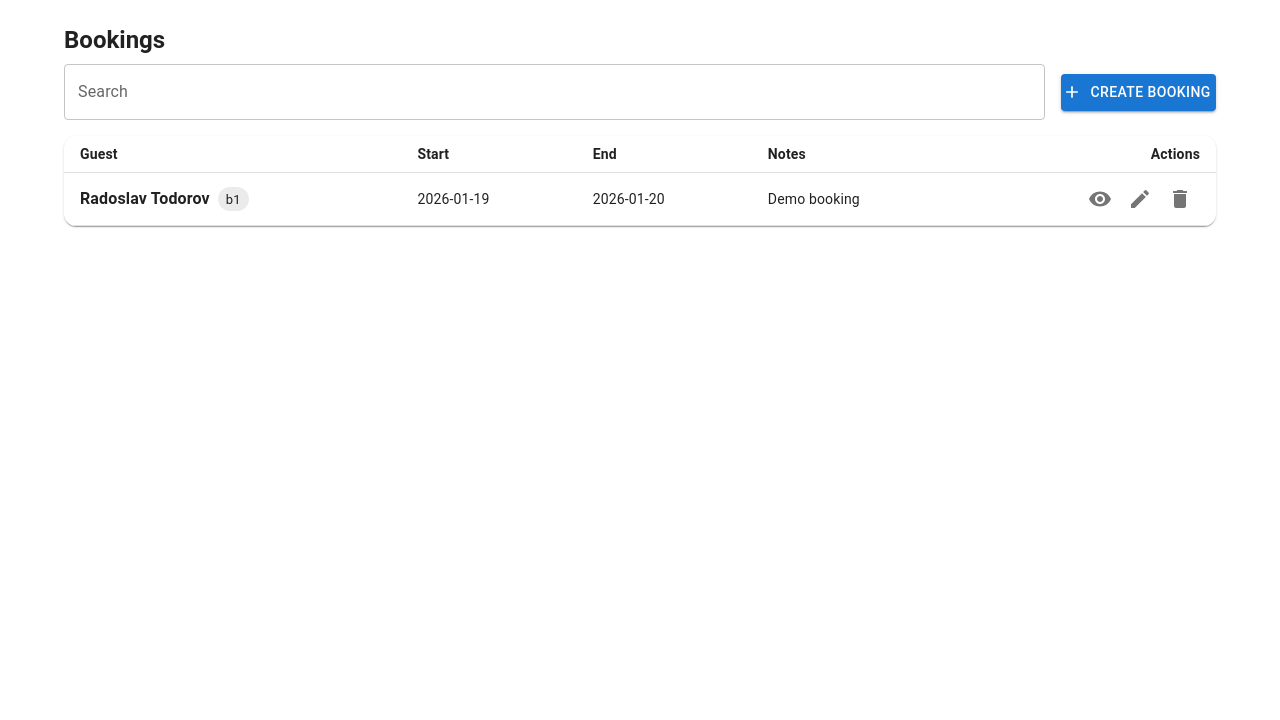
BookingsPage › delete confirm removes booking row from table
Expected: the text "Radoslav Todorov" is shown, [80,187,210,211]
Step 1. Click the button named "delete" → (1180, 199), box [1160,179,1200,219]
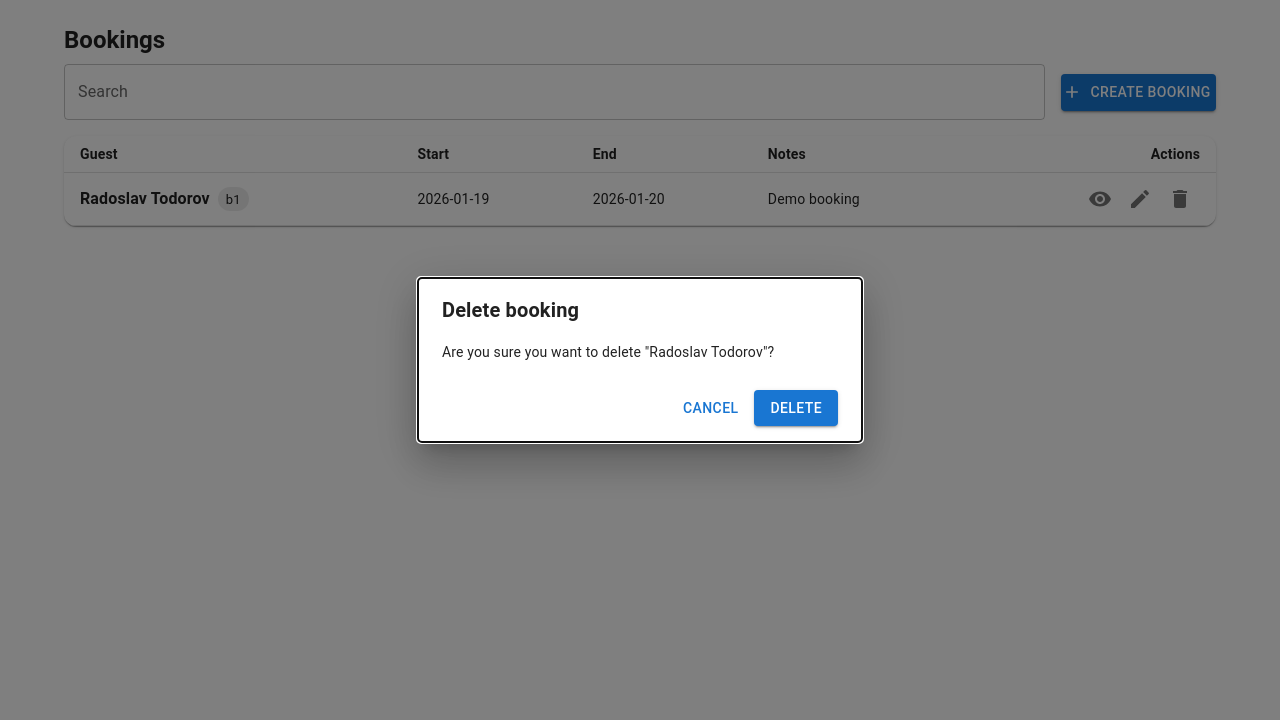
Expected: the dialog is shown, [418,278,862,442]
Step 2. Click the button "Delete" → (796, 408), box [754,390,838,426]
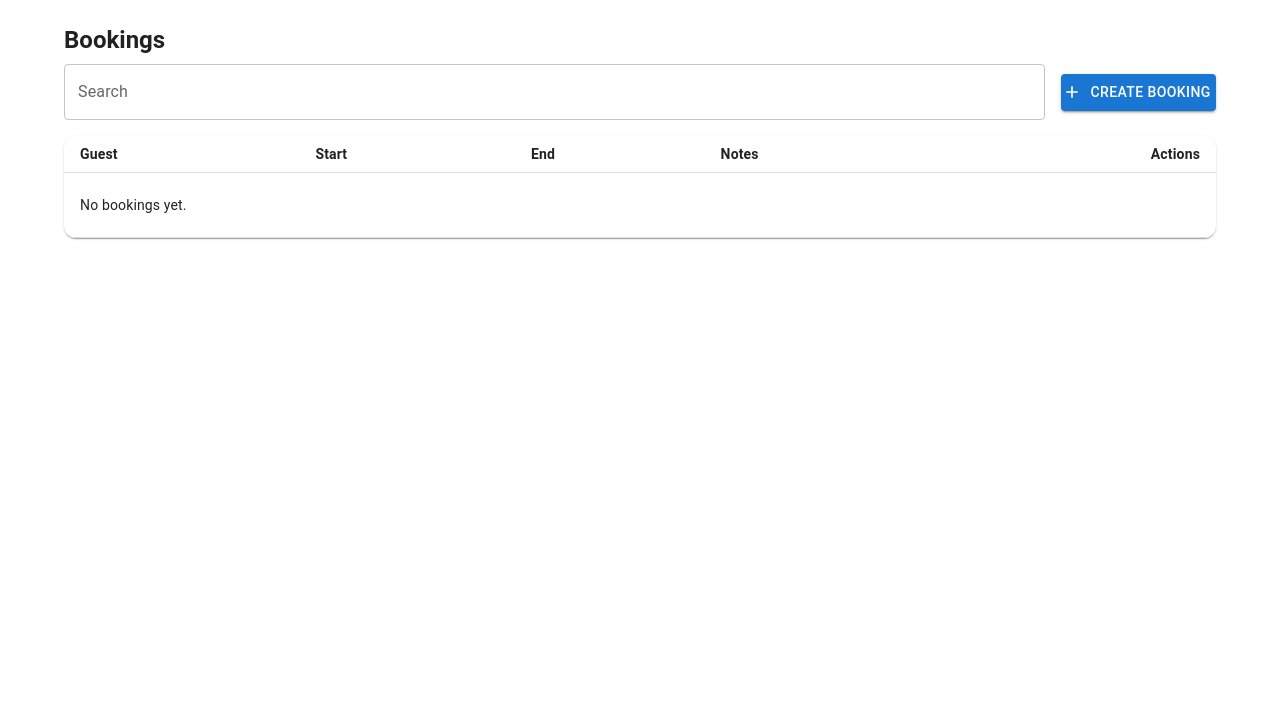
Expected: the dialog is gone
Expected: the text "Radoslav Todorov" is gone
